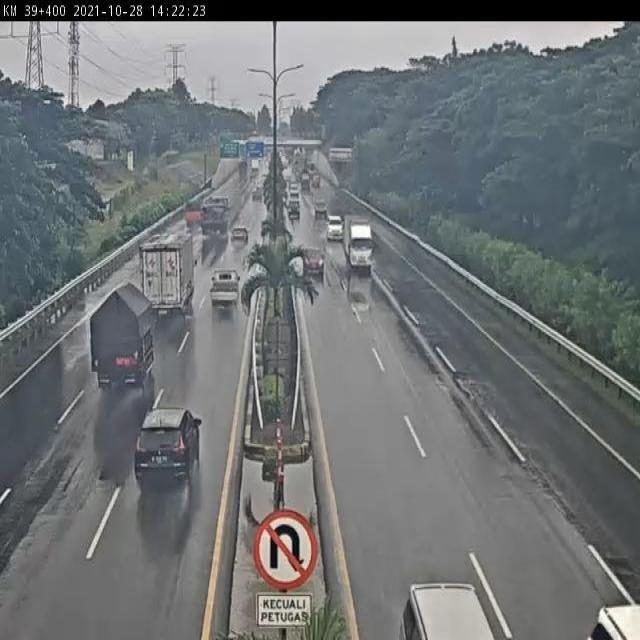car: (136, 405, 201, 487), (208, 266, 242, 314), (301, 242, 324, 274), (228, 224, 250, 249)
truck-l-: (136, 229, 195, 323), (196, 197, 229, 240)
truck-m-: (89, 282, 156, 394)
truck-s-: (345, 216, 374, 272), (182, 201, 203, 232)
